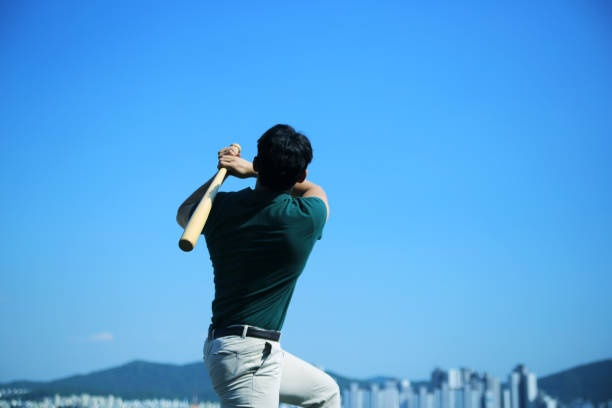bita: (175, 143, 236, 252)
